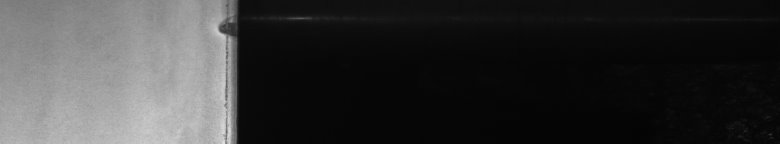hb: (212, 4, 224, 40)
